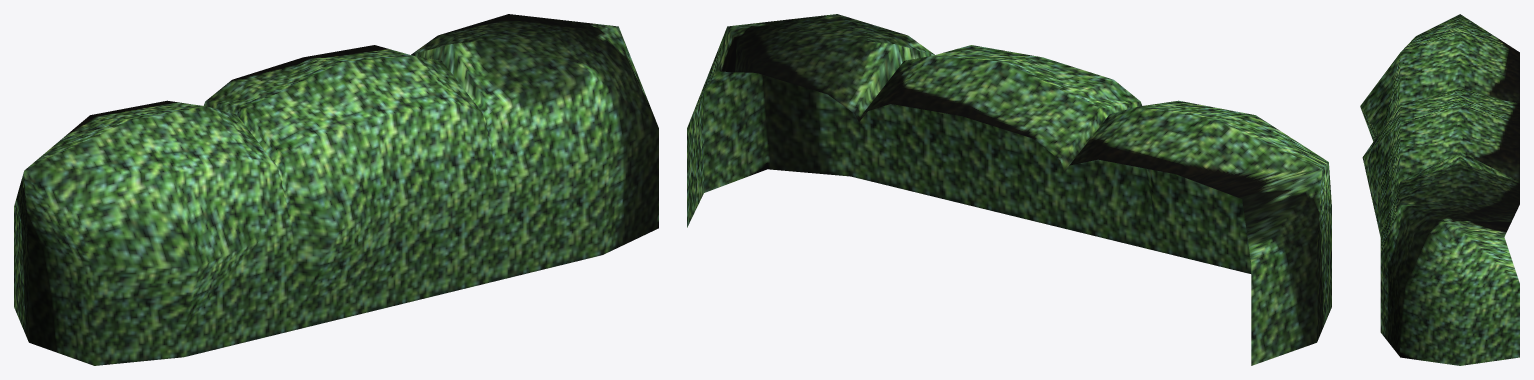
File: bush.obj
3 views of the same model, side by side, from view 1: azimuth 30°, elevation 25°; view 2: azimuth 150°, elevation 25°; view 3: azimuth 270°, elevation 25° (orthographic). The views are drawn at different scales.
Visible parts, largest first — view 1: bush1; view 2: bush1; view 3: bush1.
Part boxes in pixels (x1,y1,x2,y2): bush1: [14, 14, 658, 365]; bush1: [687, 14, 1331, 365]; bush1: [1360, 14, 1519, 365].
Bounding box in the file's own units: 3.32 × 1.05 × 1.
1 material, 1 textured.
